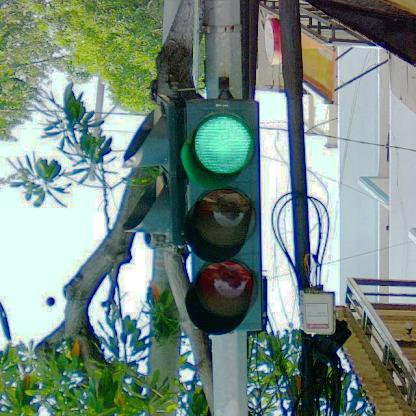Traffic Light -Green-: (182, 98, 266, 334)
